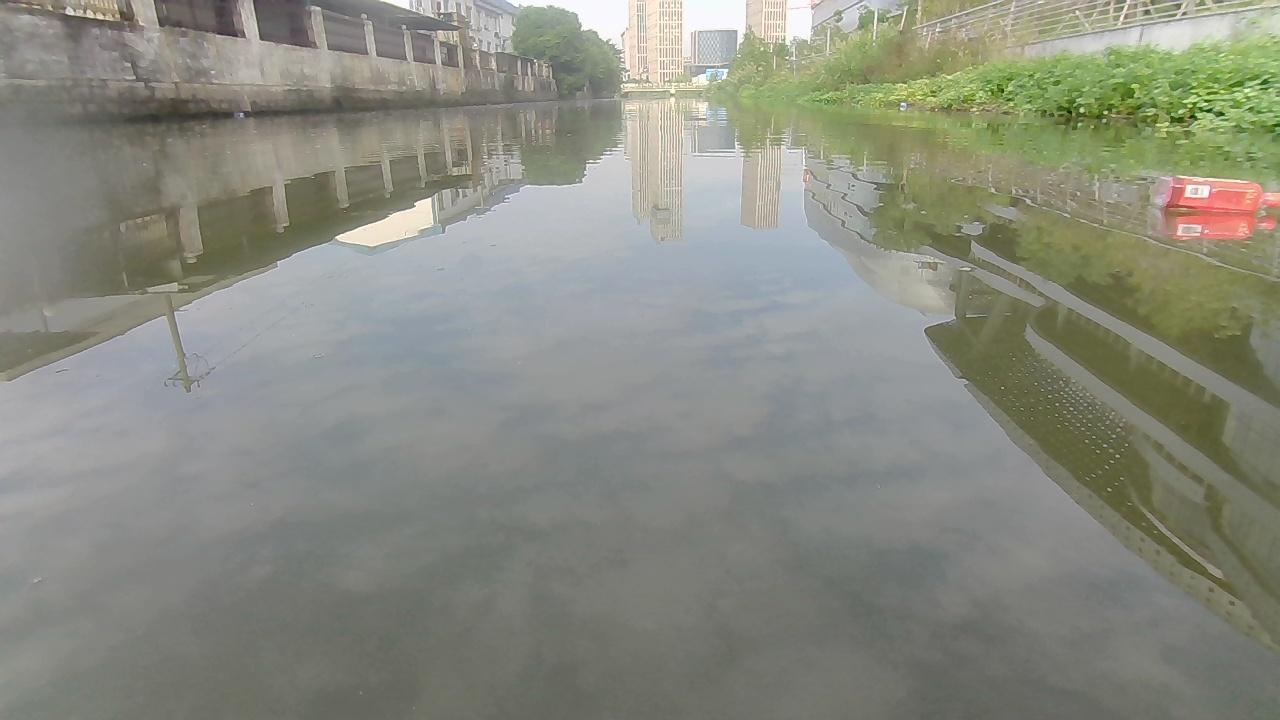bottle: (1147, 172, 1279, 220), (230, 107, 246, 122), (896, 100, 909, 114)
